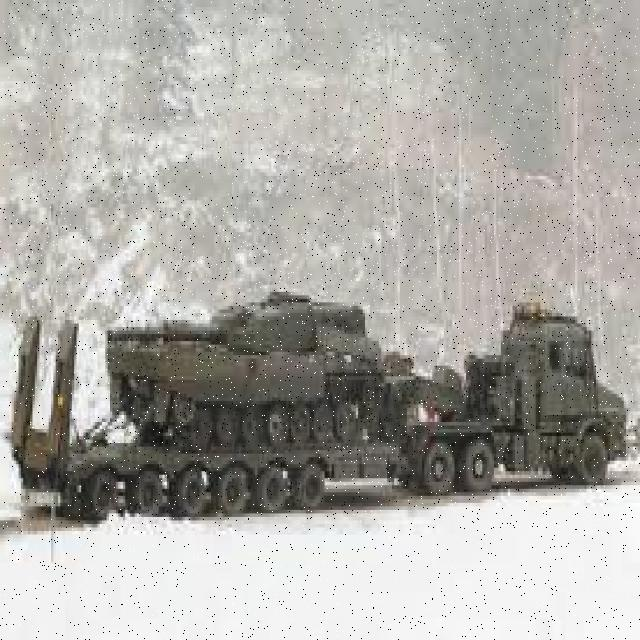MIL_MBT: (103, 211, 447, 443)
